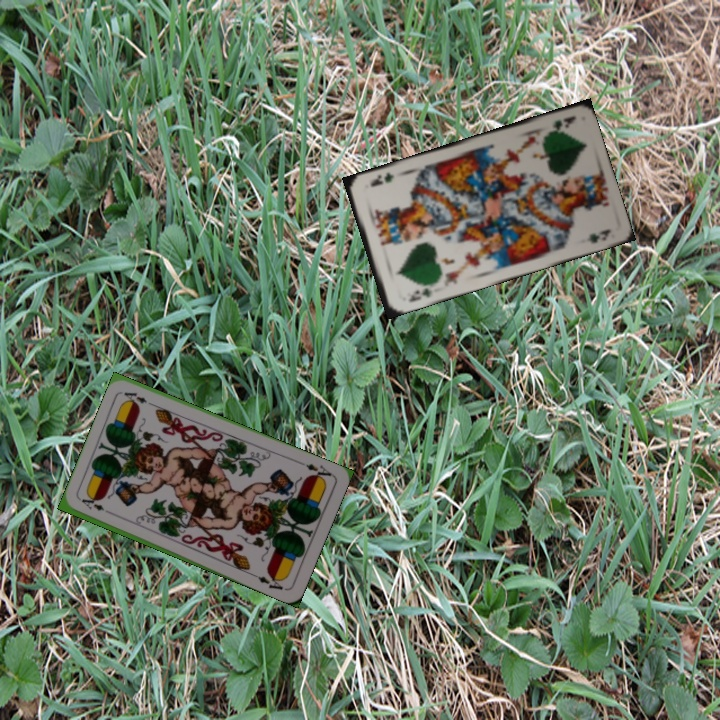EA: (78, 495, 115, 518), (302, 459, 335, 484)
GK: (543, 112, 578, 136), (405, 284, 435, 304)
